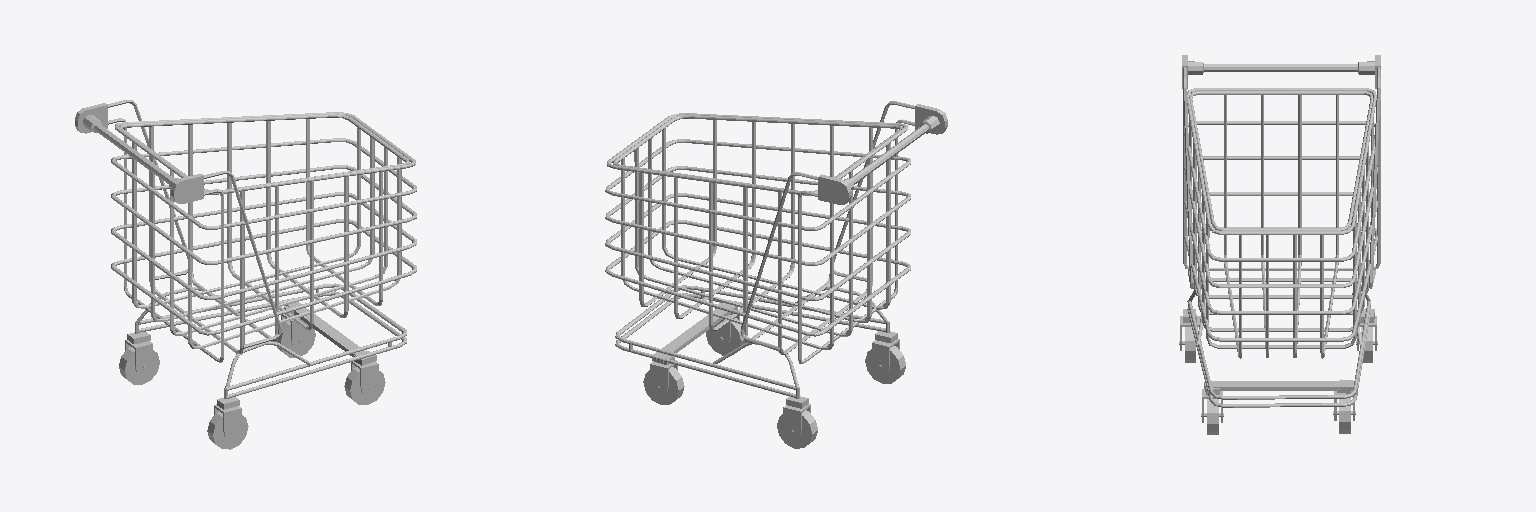
File: trolleynew.obj
3 views of the same model, side by side, from view 1: azimuth 30°, elevation 25°; view 2: azimuth 150°, elevation 25°; view 3: azimuth 270°, elevation 25° (orthographic).
Parts seen in each view (by area): view 1: trolley_Plane.008, wheel_2_Circle.002, wheel3_Circle.004, wheel4_Circle.003, castor_bracket_1_Plane.006, castor_bracket2_Plane.005, castor_bracket_3_Plane.009, wheel_Circle.001; view 2: trolley_Plane.008, wheel4_Circle.003, wheel_2_Circle.002, wheel_Circle.001, castor_bracket_1_Plane.006, castor_bracket2_Plane.005, castor_bracket_4_Plane.001, wheel3_Circle.004; view 3: trolley_Plane.008.
Boxes of the visible parts, <box> form: trolley_Plane.008: <box>75,100,416,409</box>; wheel_2_Circle.002: <box>119,347,159,384</box>; wheel3_Circle.004: <box>344,367,385,404</box>; wheel4_Circle.003: <box>207,411,248,449</box>; castor_bracket_1_Plane.006: <box>214,404,241,438</box>; castor_bracket2_Plane.005: <box>125,340,152,374</box>; castor_bracket_3_Plane.009: <box>351,361,378,394</box>; wheel_Circle.001: <box>276,321,315,357</box>; trolley_Plane.008: <box>605,101,947,408</box>; wheel4_Circle.003: <box>865,346,905,383</box>; wheel_2_Circle.002: <box>777,410,817,448</box>; wheel_Circle.001: <box>643,367,684,404</box>; castor_bracket_1_Plane.006: <box>872,339,899,373</box>; castor_bracket2_Plane.005: <box>783,404,810,438</box>; castor_bracket_4_Plane.001: <box>650,360,677,394</box>; wheel3_Circle.004: <box>706,318,745,355</box>; trolley_Plane.008: <box>1182,55,1380,407</box>.
Size of the model in its own units: 3.25 by 3.34 by 2.16.